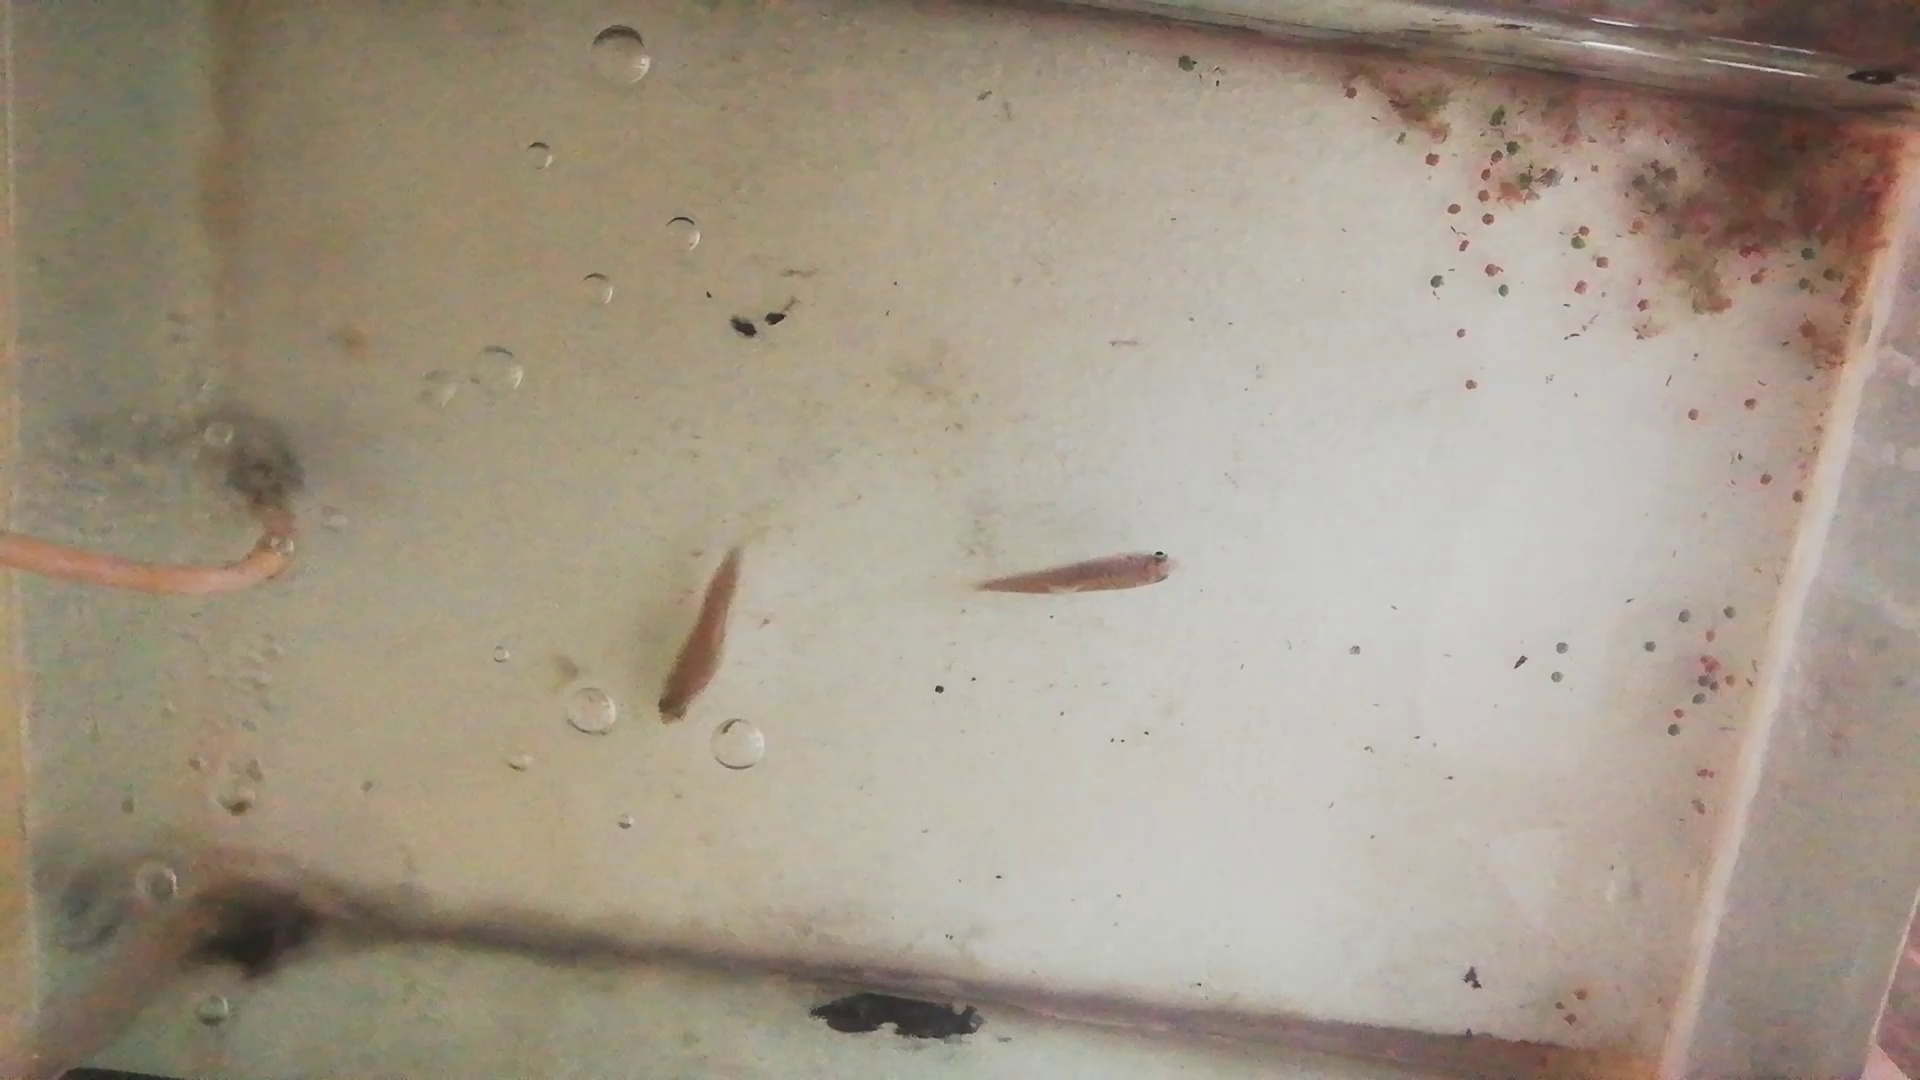fish: (654, 549, 746, 731), (982, 549, 1182, 599)
